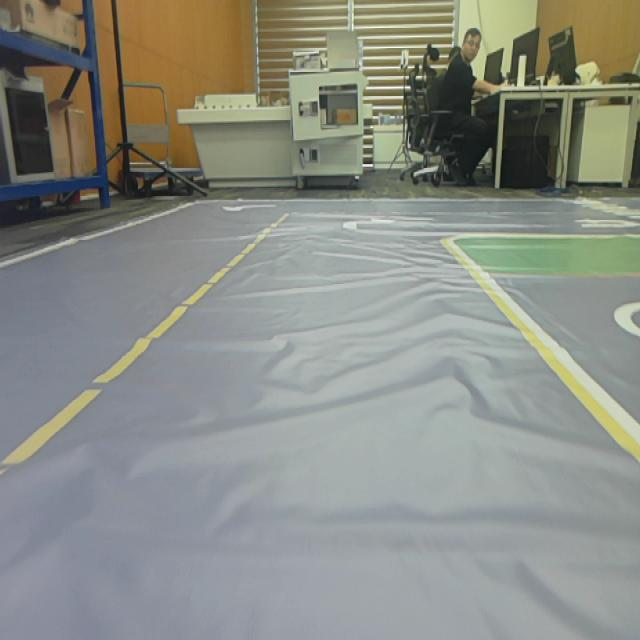left_lane: (0, 215, 282, 479), (439, 240, 640, 463)
